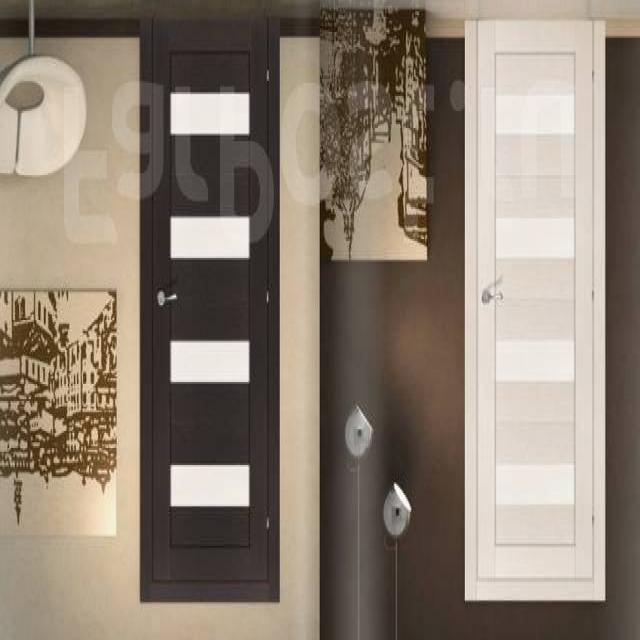close: (467, 24, 602, 595), (142, 26, 276, 592)
